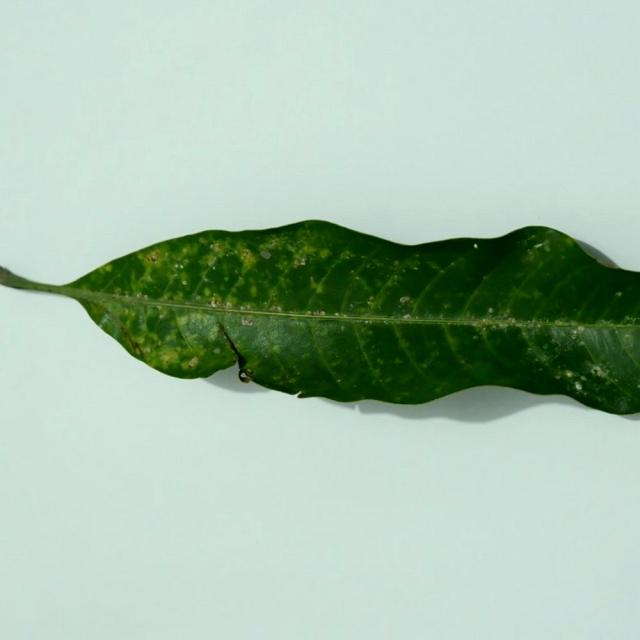Mango: (0, 220, 639, 415)
Powdery_Mildew: (318, 252, 423, 316), (494, 247, 575, 308), (557, 343, 633, 393), (199, 292, 271, 318), (131, 253, 179, 291), (538, 325, 586, 358), (305, 266, 334, 304), (155, 344, 187, 366), (232, 248, 258, 273), (167, 256, 192, 277), (523, 242, 548, 261), (259, 239, 284, 254), (313, 323, 332, 339), (199, 285, 216, 301), (207, 322, 218, 340), (246, 282, 258, 298), (161, 352, 174, 365), (621, 315, 639, 324), (481, 318, 497, 328), (317, 248, 330, 260), (101, 262, 113, 273), (563, 235, 574, 247), (211, 242, 223, 253), (240, 249, 251, 260), (623, 333, 634, 343), (210, 297, 221, 307), (197, 236, 209, 244), (207, 257, 216, 266), (543, 243, 551, 252), (420, 362, 428, 370), (394, 358, 402, 365), (292, 369, 299, 376), (393, 260, 399, 266), (377, 359, 383, 365)
